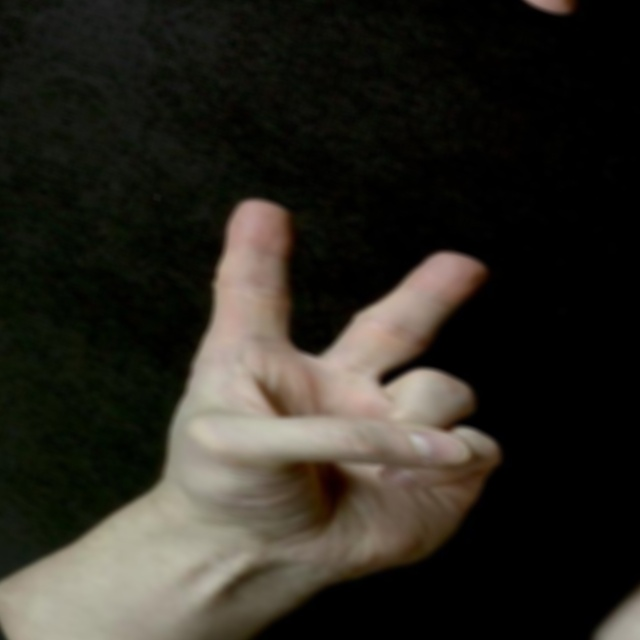Scissors: (146, 191, 571, 628)
